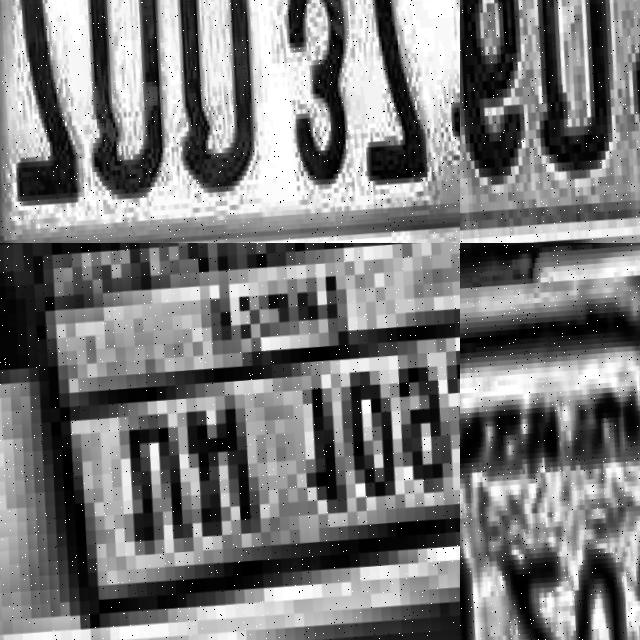license-plate: (0, 243, 460, 640), (0, 0, 460, 243), (460, 264, 640, 640), (460, 0, 640, 243)
